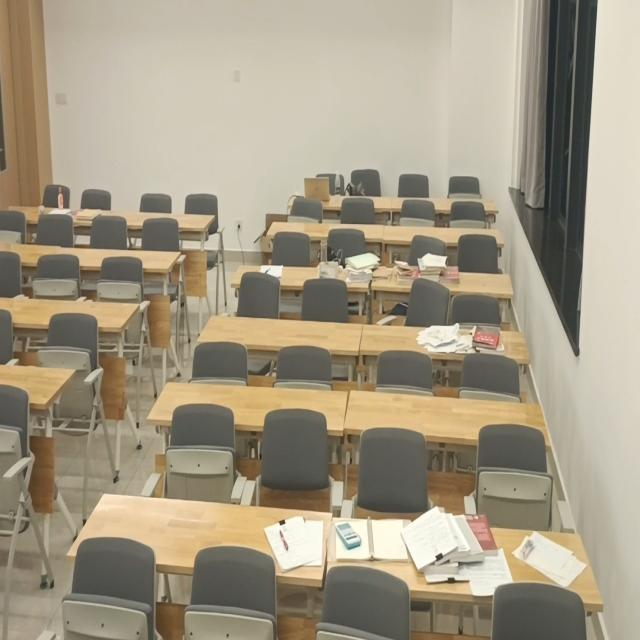Non-empty: (333, 511, 601, 611), (66, 490, 332, 579), (361, 322, 530, 363), (370, 265, 514, 306), (230, 262, 379, 291), (292, 184, 391, 216), (10, 203, 122, 227)
empty: (344, 388, 552, 450), (146, 377, 349, 434), (195, 309, 366, 355), (7, 299, 142, 332), (40, 242, 182, 272), (1, 358, 78, 411), (382, 223, 505, 249), (390, 190, 500, 214), (265, 219, 386, 239), (2, 235, 53, 269)
